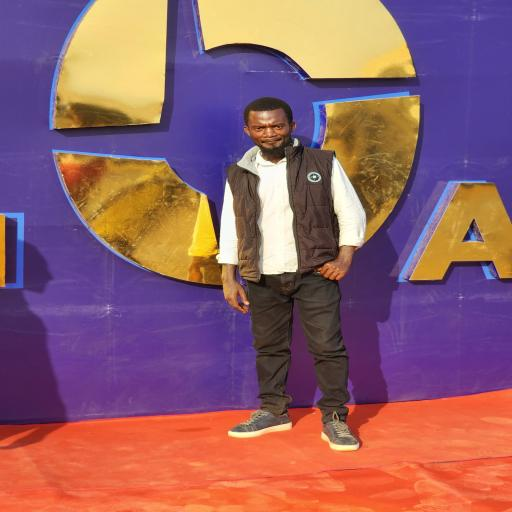MATTHIEU: (232, 96, 304, 160)
